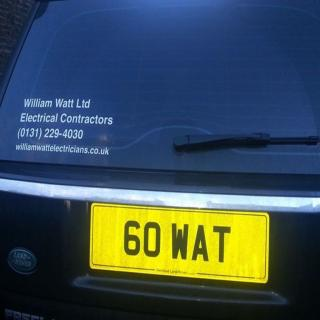license: (89, 205, 270, 284)
